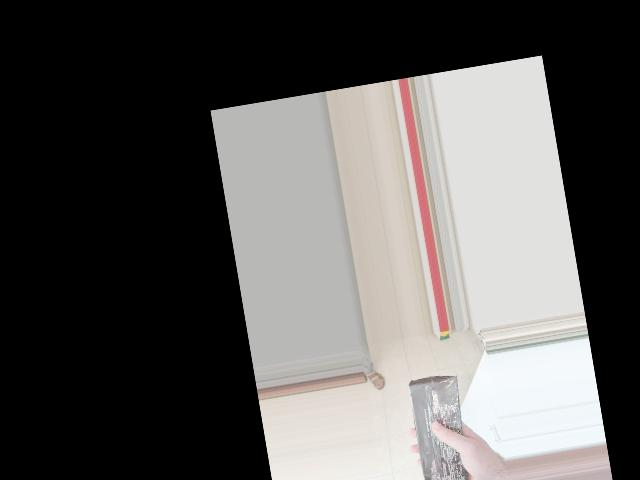chocolate: (406, 368, 474, 480)
